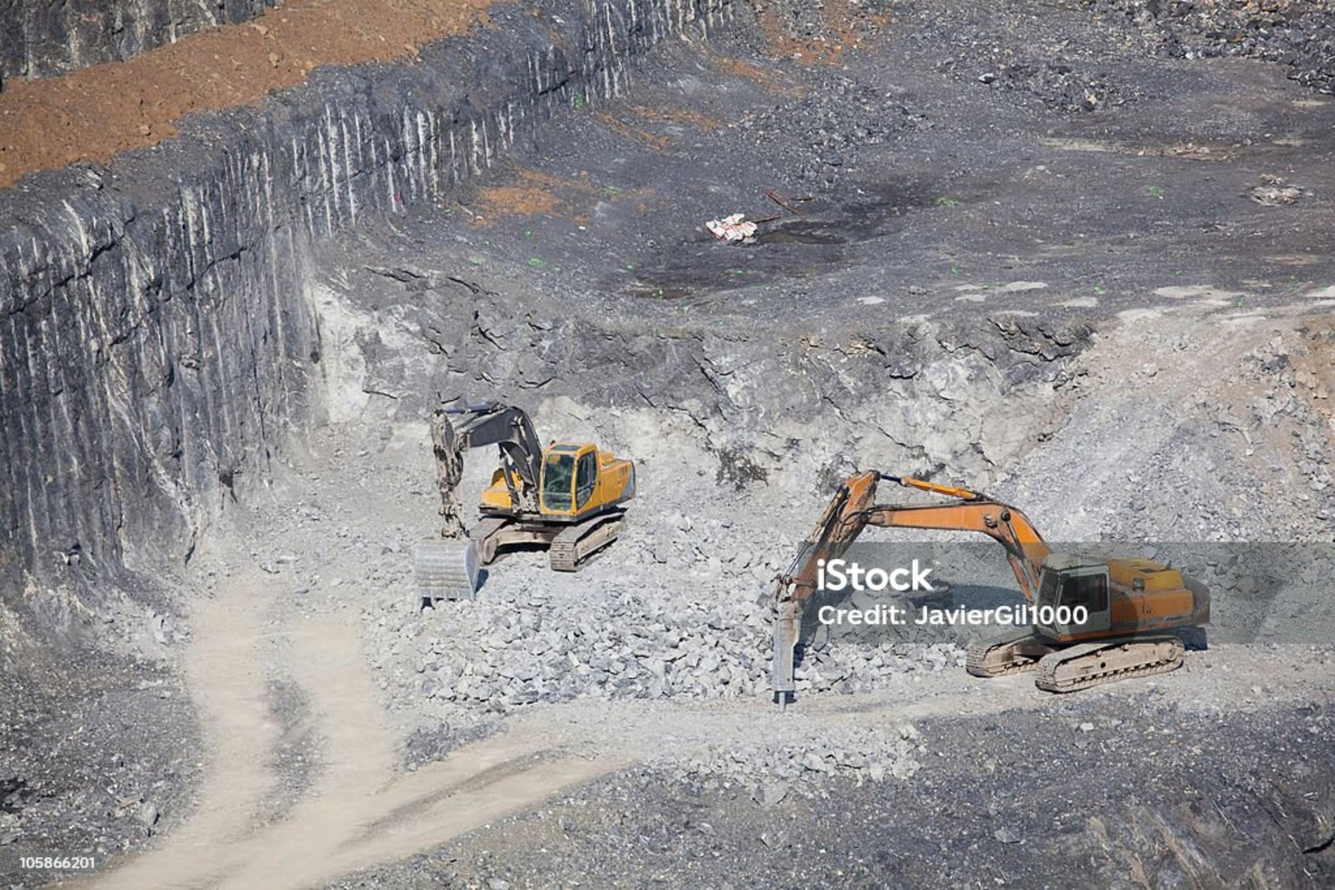benches: (0, 0, 493, 188)
excavator: (103, 582, 1056, 886), (750, 452, 1225, 684), (417, 387, 643, 606)
wall: (0, 0, 733, 577)
